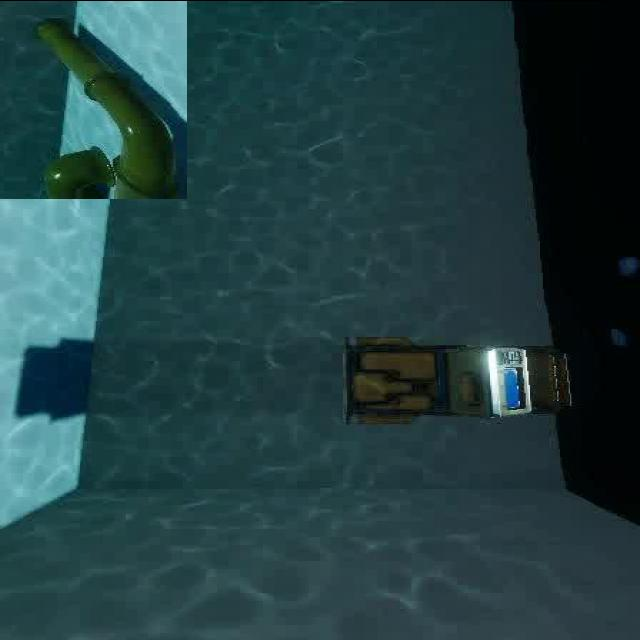Control Panel: (332, 329, 584, 425)
Pipe: (0, 0, 187, 198)
